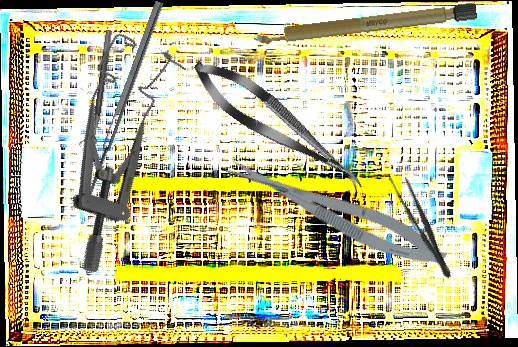Dressing Forceps: (385, 168, 459, 282)
Fixation Ring: (78, 28, 114, 148)
Micro Scissor: (220, 142, 453, 280), (183, 48, 375, 203)
Scalpel Handle: (252, 1, 478, 47)
Spatula Surgical: (81, 0, 172, 211)
Speculum: (9, 24, 207, 279)
